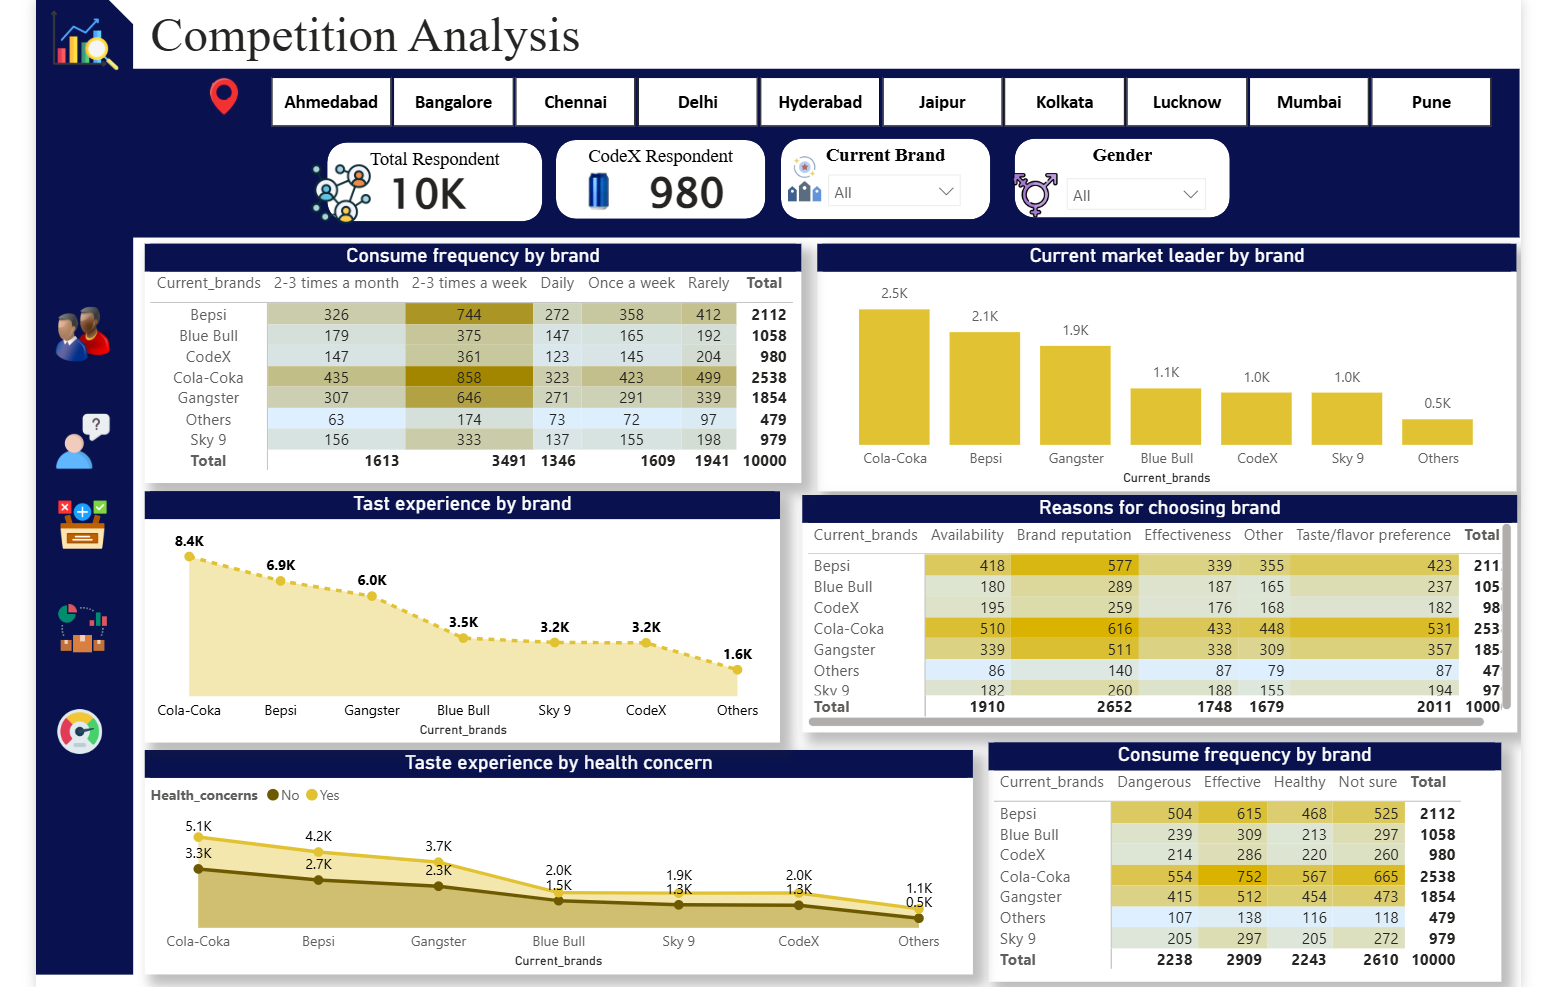

This screenshot's page, from the dashboard's own definition file:
{"tool":"powerbi","page":{"name":"Competition Analysis","canvas":[1281,854],"ordinal":4},"visuals":[{"type":"shape","box":[67.9,59.6,1211.8,145.7],"z":0},{"type":"shape","box":[642.3,119.2,180.5,69.5],"z":1000},{"type":"textbox","box":[94.1,0,415.2,70.6],"z":2000},{"type":"shape","box":[0,0,84.1,841],"z":3000},{"type":"shape","box":[448.6,120.9,180.5,67.9],"z":4000},{"type":"card","fields":{"Values":["fact_survey_responses.codex respondent"]},"box":[509.9,137.4,102.6,56.3],"z":5000},{"type":"shape","box":[251.6,122.5,185.4,67.9],"z":6000},{"type":"card","fields":{"Values":["measure.Total Respondent"]},"box":[263.2,140.7,149,49.7],"z":7000},{"type":"slicer","fields":{"Values":["dim_cities.City"]},"box":[177.1,59.6,1102.6,56.3],"z":8000},{"type":"columnChart","title":"Current market leader by brand","fields":{"Category":["fact_survey_responses.Current_brands"],"Y":["measure.Total Respondent"]},"box":[674.1,210.1,603.5,213.5],"z":9000},{"type":"slicer","fields":{"Values":["fact_survey_responses.Current_brands"]},"box":[673.3,140,135,46.7],"z":10000},{"type":"shape","box":[844.3,119.2,185.4,67.9],"z":11000},{"type":"slicer","fields":{"Values":["dim_repondents.Gender"]},"box":[878.3,143.3,140,40],"z":12000},{"type":"image","box":[836,144,53,48],"z":13000},{"type":"image","box":[129.1,59.6,66.2,48],"z":14000},{"type":"image","box":[195.4,137.4,135.8,61.3],"z":15000},{"type":"image","box":[629.1,129.1,69.5,49.7],"z":16000},{"type":"image","box":[448.6,140.7,72.8,46.4],"z":17000},{"type":"pivotTable","title":"Reasons for choosing brand","fields":{"Rows":["fact_survey_responses.Current_brands"],"Columns":["fact_survey_responses.Reasons_for_choosing_brands"],"Values":["measure.Total Respondent"]},"box":[660.7,427,617,205.1],"z":18000},{"type":"pivotTable","title":"Consume frequency  by brand","fields":{"Rows":["fact_survey_responses.Current_brands"],"Columns":["fact_survey_responses.Consume_frequency"],"Values":["measure.Total Respondent"]},"box":[94.1,210.1,566.5,206.8],"z":19000},{"type":"pivotTable","title":"Consume frequency  by brand","fields":{"Rows":["fact_survey_responses.Current_brands"],"Columns":["fact_survey_responses.General_perception"],"Values":["measure.Total Respondent"]},"box":[822.1,640.5,442.1,206.8],"z":20000},{"type":"areaChart","title":"Taste experience by health concern","fields":{"Category":["fact_survey_responses.Current_brands"],"Y":["Sum(fact_survey_responses.Taste_experience)"],"Series":["fact_survey_responses.Health_concerns"]},"box":[94.1,647.2,714.5,193.3],"z":21000},{"type":"areaChart","title":"Tast experience by brand","fields":{"Category":["fact_survey_responses.Current_brands"],"Y":["Sum(fact_survey_responses.Taste_experience)"]},"box":[94.1,423.6,548,216.9],"z":22000},{"type":"image","box":[0,0,83.3,70],"z":23000},{"type":"image","box":[10,260,61.7,56.7],"z":24000},{"type":"image","box":[10,341.7,61.7,78.3],"z":25000},{"type":"image","box":[10,426.7,60,51.7],"z":26000},{"type":"image","box":[13.3,515,55,53.3],"z":27000},{"type":"image","box":[13.3,603.3,50,55],"z":28000}]}

Visuals, with their boxes on the page's 1281x854 design canvas (x1, y1, x2, y2). These are canvas units, not pixel positions in the 1558x987 screenshot, which may show the page scaled, cropped or inside an application window:
shape: rect(68, 60, 1280, 205)
shape: rect(642, 119, 823, 189)
textbox: rect(94, 0, 509, 71)
shape: rect(0, 0, 84, 841)
shape: rect(449, 121, 629, 189)
card - fact_survey_responses.codex respondent: rect(510, 137, 612, 194)
shape: rect(252, 122, 437, 190)
card - measure.Total Respondent: rect(263, 141, 412, 190)
slicer - dim_cities.City: rect(177, 60, 1280, 116)
"Current market leader by brand" columnChart: rect(674, 210, 1278, 424)
slicer - fact_survey_responses.Current_brands: rect(673, 140, 808, 187)
shape: rect(844, 119, 1030, 187)
slicer - dim_repondents.Gender: rect(878, 143, 1018, 183)
image: rect(836, 144, 889, 192)
image: rect(129, 60, 195, 108)
image: rect(195, 137, 331, 199)
image: rect(629, 129, 699, 179)
image: rect(449, 141, 521, 187)
"Reasons for choosing brand" pivotTable: rect(661, 427, 1278, 632)
"Consume frequency  by brand" pivotTable: rect(94, 210, 661, 417)
"Consume frequency  by brand" pivotTable: rect(822, 640, 1264, 847)
"Taste experience by health concern" areaChart: rect(94, 647, 809, 840)
"Tast experience by brand" areaChart: rect(94, 424, 642, 640)
image: rect(0, 0, 83, 70)
image: rect(10, 260, 72, 317)
image: rect(10, 342, 72, 420)
image: rect(10, 427, 70, 478)
image: rect(13, 515, 68, 568)
image: rect(13, 603, 63, 658)
